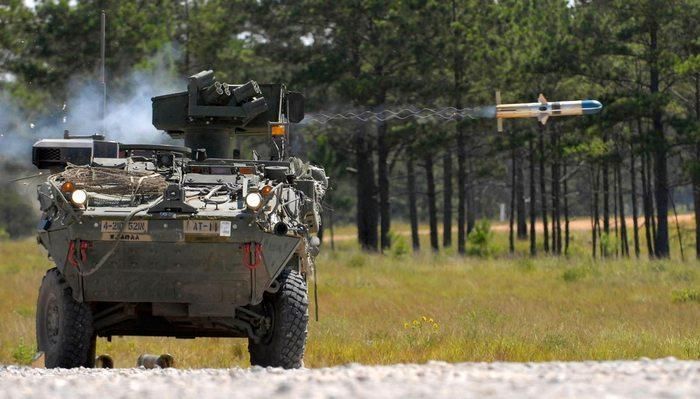MIL_IFV: (24, 69, 336, 370)
